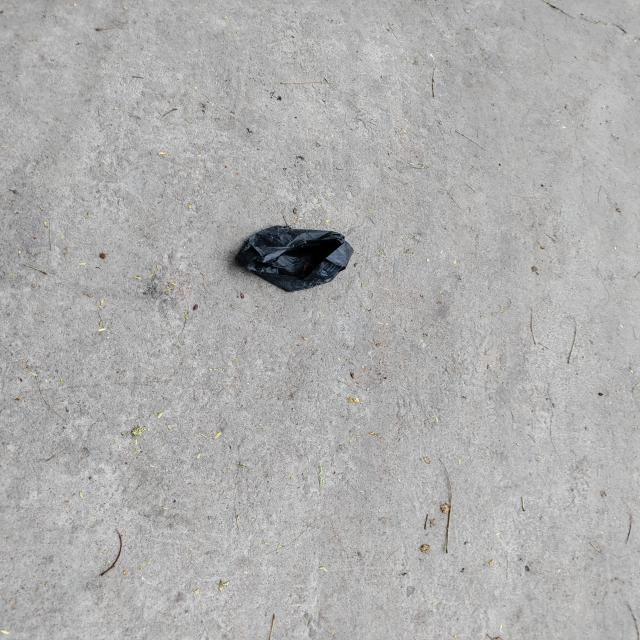plastic: (227, 216, 354, 295)
